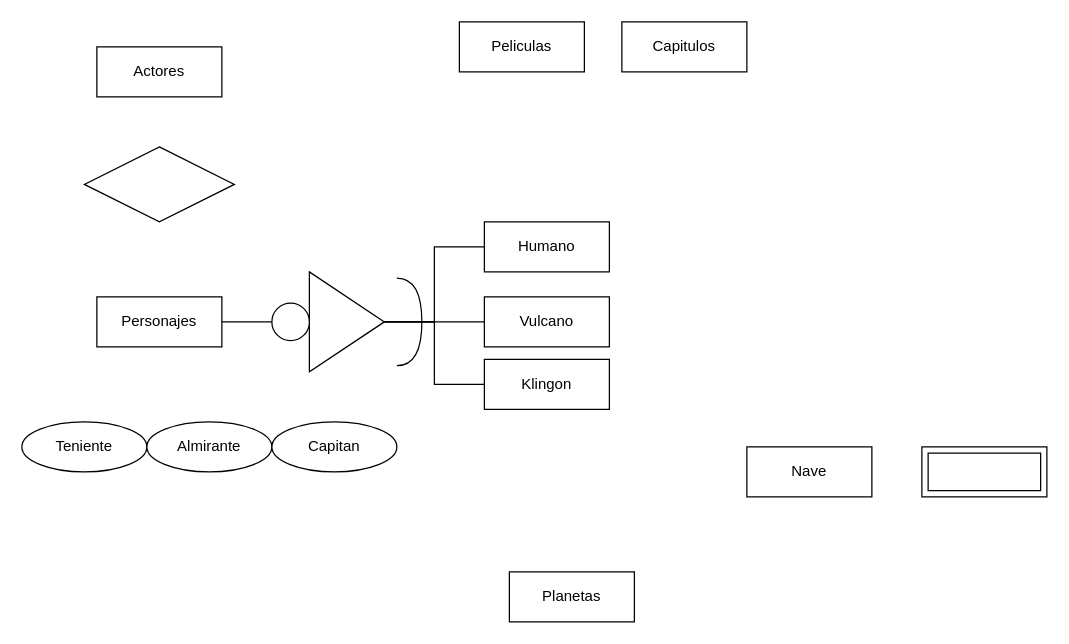
Some shapes in this 1069 by 644 pixel diagram are drawn without their labels. The centre of each missing label's shape, as x and y in pixels:
Interpreta: (x=158, y=184)
Lanzadera: (x=984, y=471)
